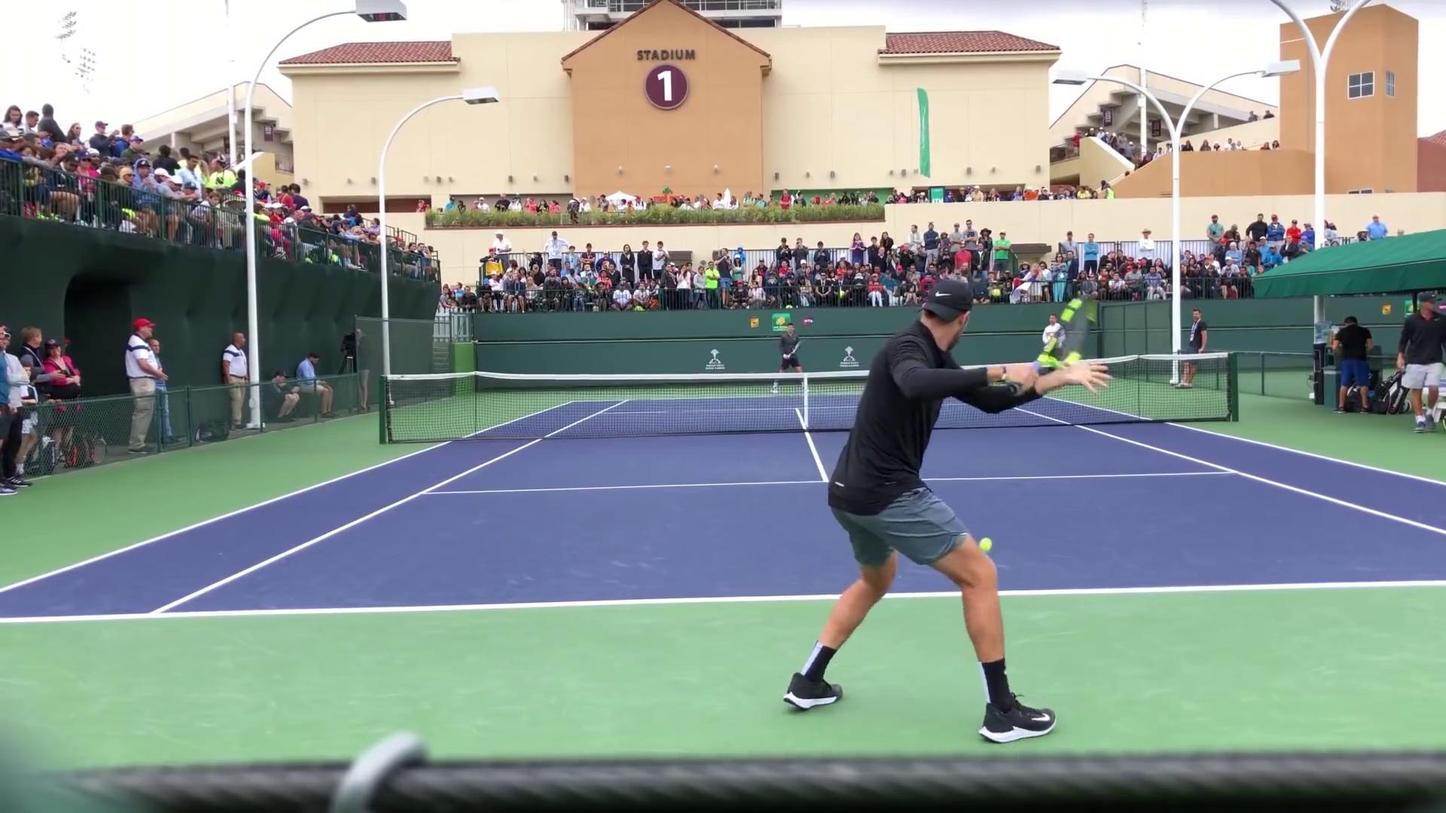ball: (978, 537, 991, 551)
